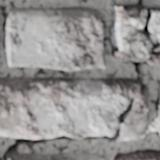brick: (4, 7, 104, 69), (7, 153, 102, 159), (114, 150, 159, 159), (155, 83, 159, 133)
broken_brick: (0, 76, 139, 138), (108, 3, 159, 68), (115, 84, 149, 142)
crack: (2, 0, 157, 159)
